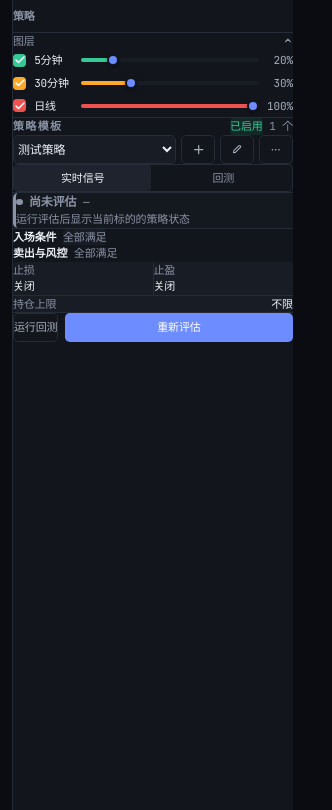
Test case: SignalPanel 卖出与风控 / 交易明细 › 仍持仓时显示「持有中」行与浮动盈亏，并说明不计入统计
The width and height of the screenshot is (332, 810).
Step 1. Click the button "回测" → (223, 178), box [155,165,292,191]
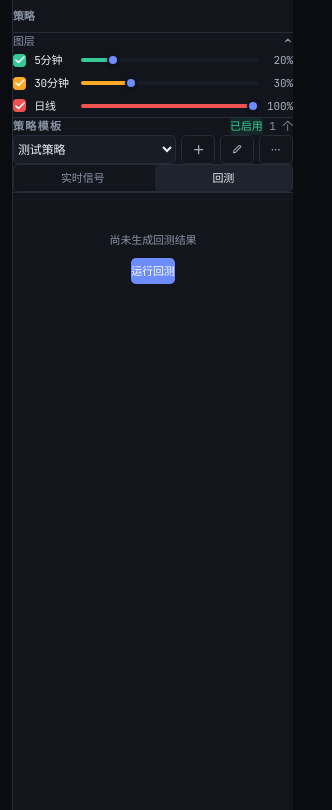
Step 2. Click the button "运行回测" → (153, 271), box [131,258,175,284]
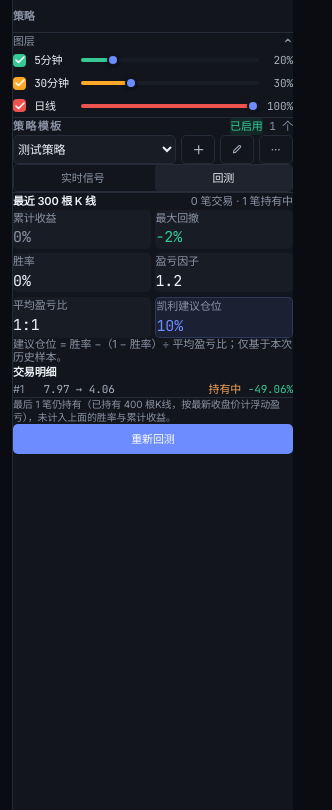
Now the text "0 笔交易 · 1 笔持有中" is shown, box [191,193,293,210]
Now the text "持有中" is shown, box [209,381,241,397]
Now the text "7.97 → 4.06" is shown, box [44,382,115,396]
